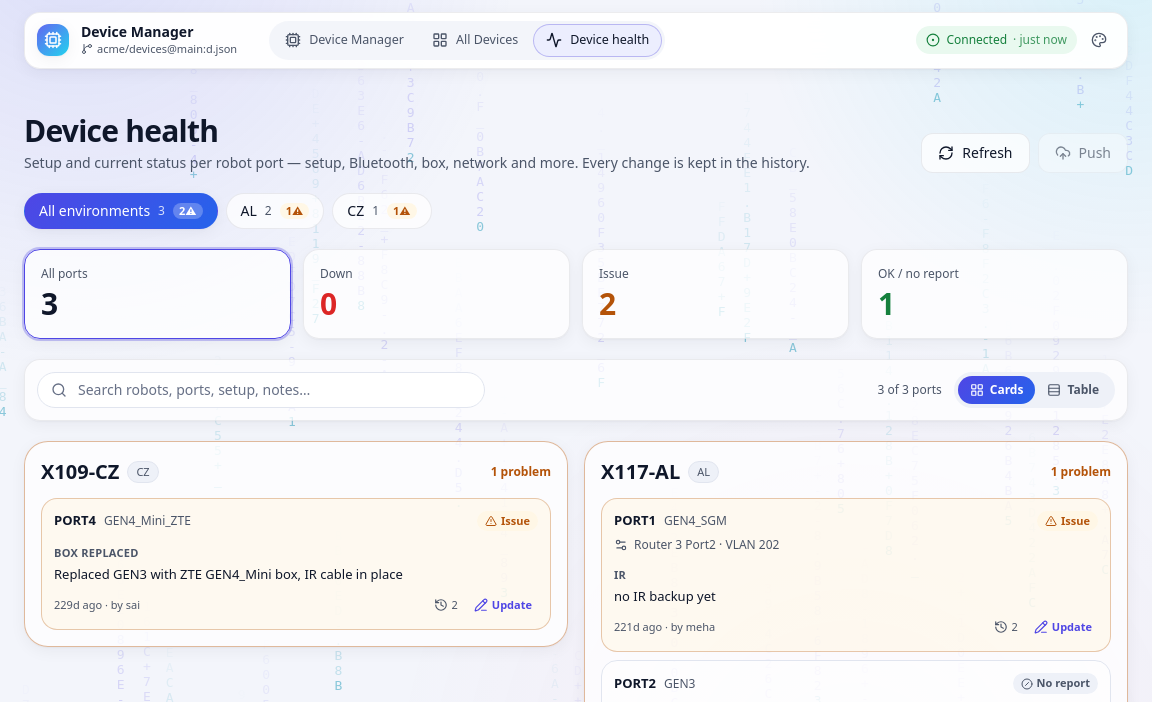
Environment tab › filters by the Issue / Down tiles (no separate 'problems' tile)
The image size is (1152, 702).
Click the radio button labelled "Issue 2" at (614,273), box [582,249,849,339]
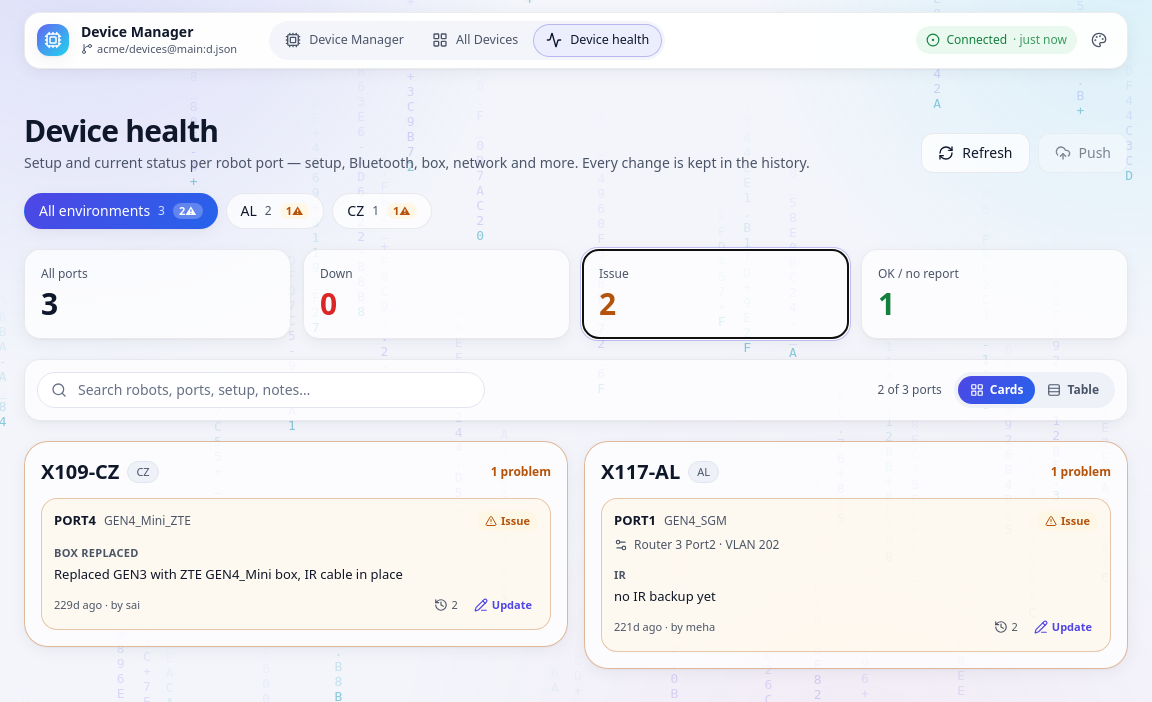
Check: the text "2 of 3 ports" is shown, box [878,382,942,398]
